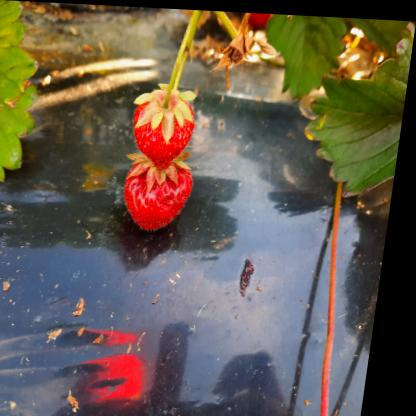ripe: (129, 156, 197, 227), (139, 83, 194, 154)
